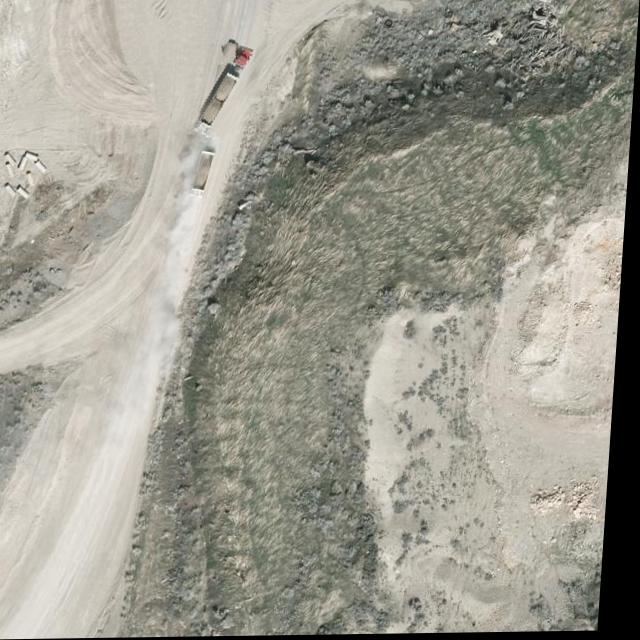vehicle: (200, 44, 251, 141)
